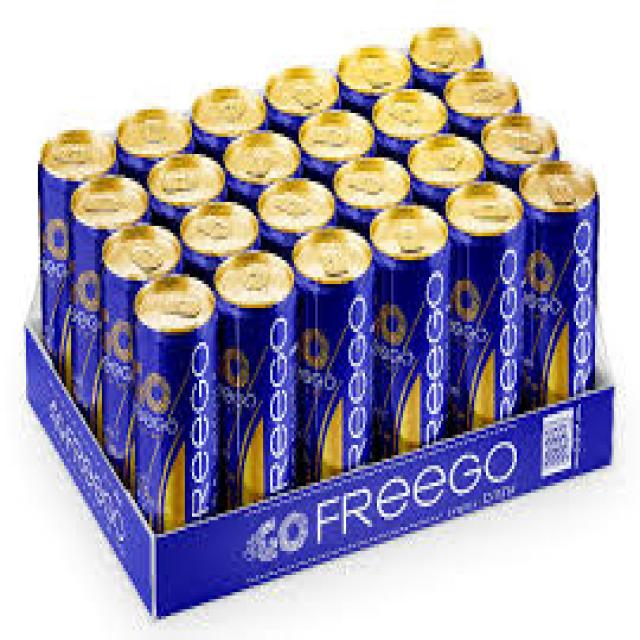Cans: (125, 274, 222, 541), (367, 198, 448, 469), (216, 257, 301, 513), (298, 233, 374, 486), (443, 185, 519, 431), (524, 168, 600, 404)
